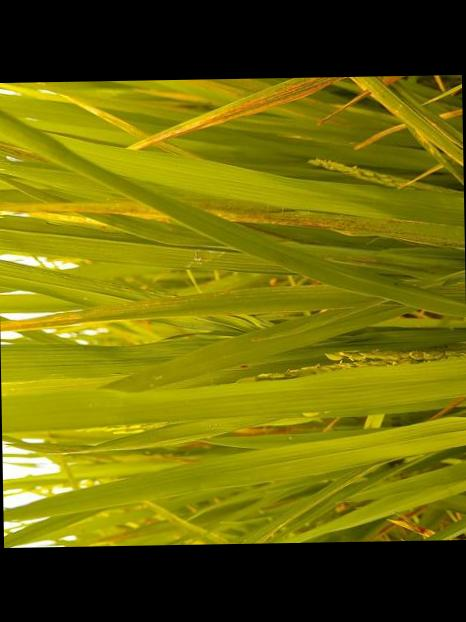Leaf Streak: (127, 76, 347, 148), (203, 209, 465, 245), (361, 75, 463, 164), (38, 89, 149, 140), (0, 201, 174, 222), (0, 307, 141, 331), (0, 139, 36, 159)
